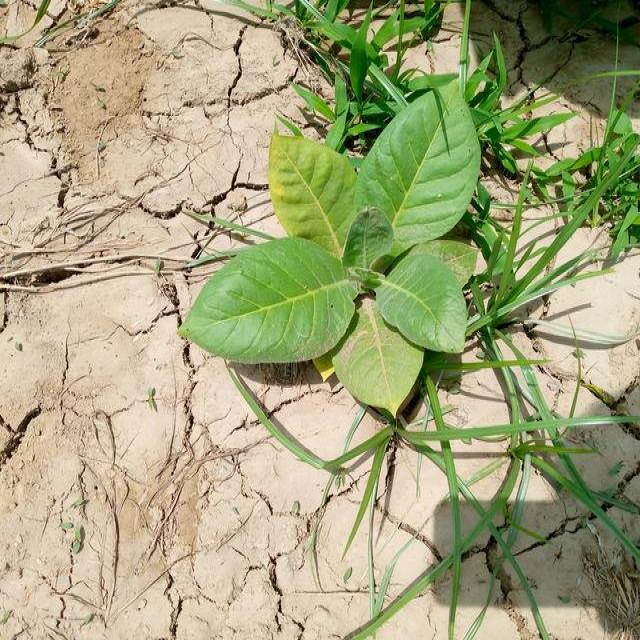crop: (182, 77, 483, 416)
